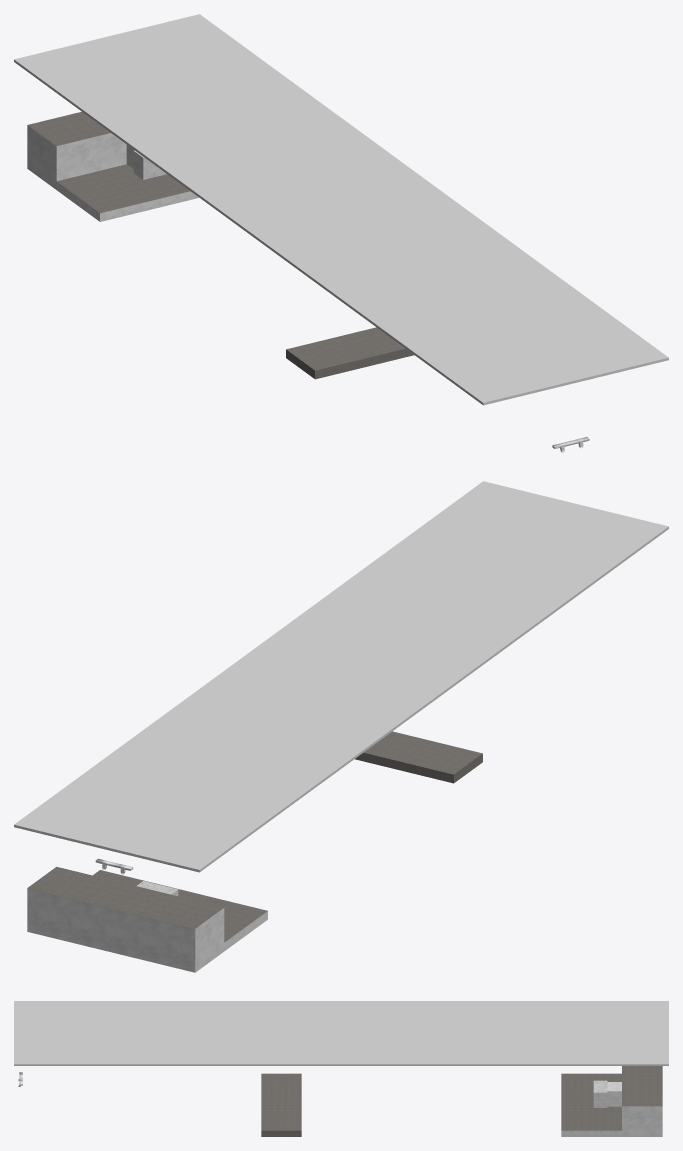
File: Roof_Platforms.fbx
3 renders of one model, top to bottom at view 1: azimuth 30°, elevation 25°; view 2: azimuth 150°, elevation 25°; view 3: azimuth 270°, elevation 25°, orthographic. The views are drawn at different scales.
Visible parts, largest first — view 1: Roof, Platform_2, Platform_1, Platform, Platform_3; view 2: Roof, Platform_2, Platform, Platform_1; view 3: Roof, Platform_1, Platform_2, Platform, Platform_3.
Boxes of the visible parts, x1=… form: Roof: x1=14, y1=14, x2=668, y2=405; Platform_2: x1=27, y1=111, x2=126, y2=189; Platform_1: x1=56, y1=164, x2=199, y2=221; Platform: x1=286, y1=327, x2=414, y2=379; Platform_3: x1=126, y1=145, x2=166, y2=179; Roof: x1=14, y1=481, x2=668, y2=872; Platform_2: x1=27, y1=866, x2=224, y2=972; Platform: x1=355, y1=731, x2=482, y2=783; Platform_1: x1=93, y1=870, x2=267, y2=951; Roof: x1=14, y1=1001, x2=668, y2=1065; Platform_1: x1=561, y1=1073, x2=621, y2=1136; Platform_2: x1=622, y1=1066, x2=662, y2=1136; Platform: x1=261, y1=1073, x2=301, y2=1136; Platform_3: x1=593, y1=1080, x2=621, y2=1107.
Size of the model in its own units: 2213 by 1233 by 9688.
9 materials, 9 textured.
